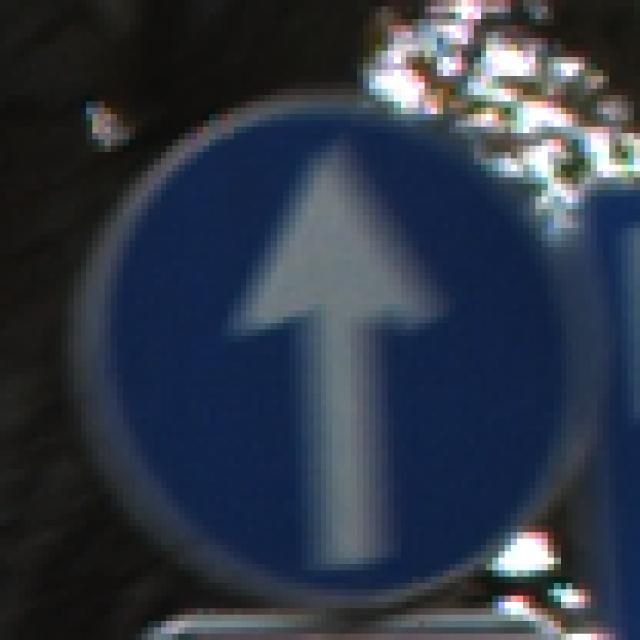compulsary ahead: (47, 78, 605, 628)
